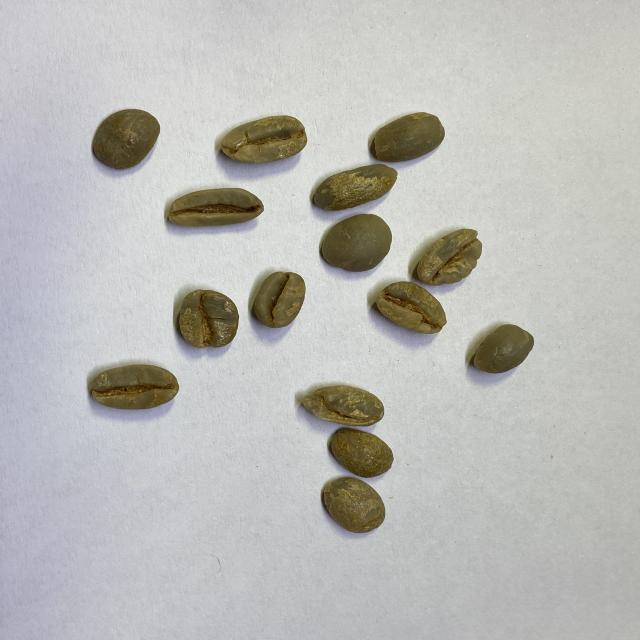bad: (218, 114, 310, 166), (373, 280, 449, 338), (414, 226, 483, 286), (298, 382, 387, 428), (176, 288, 240, 350)
good: (165, 186, 268, 233), (317, 214, 396, 274), (90, 108, 163, 171), (320, 473, 387, 537), (89, 364, 181, 408), (313, 164, 399, 210), (470, 320, 536, 375), (370, 111, 446, 158), (329, 425, 395, 479), (252, 269, 306, 327)
